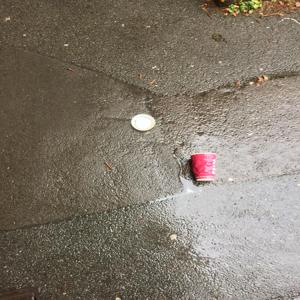cardboard: (187, 149, 224, 187)
plastic: (128, 110, 162, 136)
